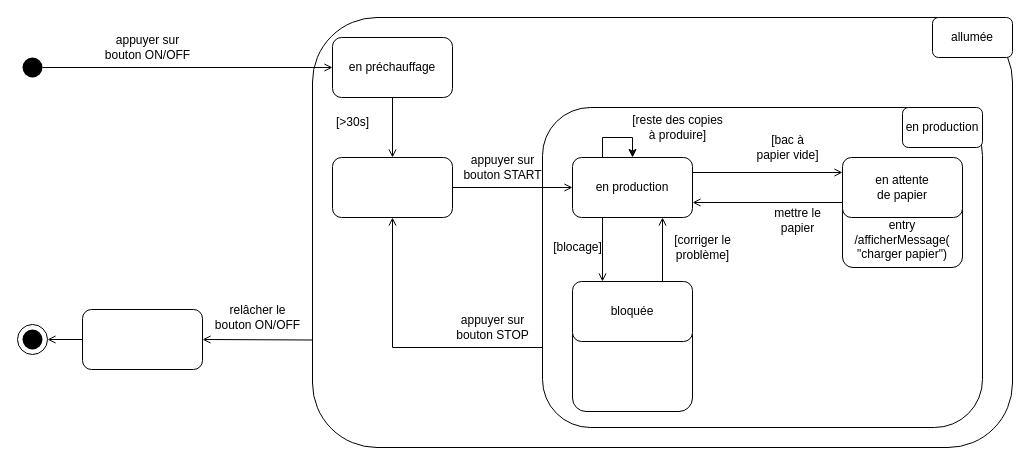
The diagram is 1030 pixels wide and 465 high, and some of its shapes have lost their labels. Here are the shapes that lost their labels. From the top down, the centre of each, then its label:
[392,187]: prête
[142,339]: éteinte
[632,366]: entry /afficherMessage( "problème à diagnostiquer")
